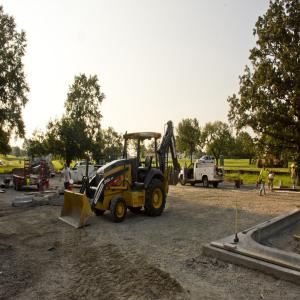none: (65, 164, 68, 170), (264, 165, 267, 171), (273, 173, 276, 178)
white: (293, 164, 295, 169)
